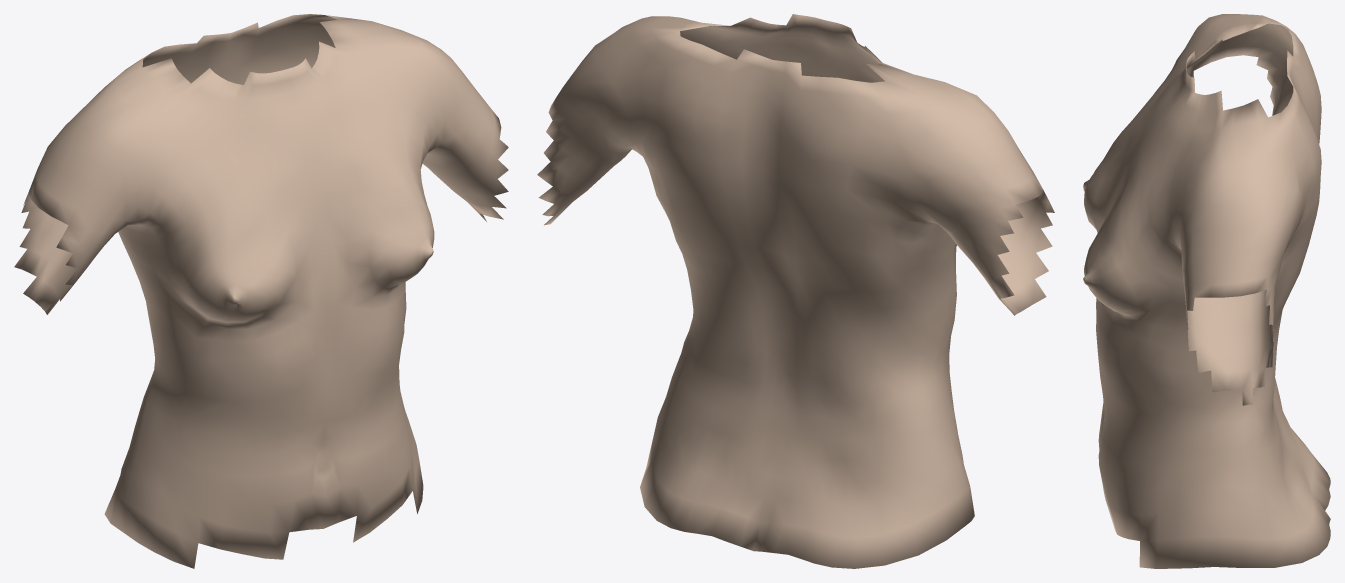
The model's file is female_tshirt_template.glb.
3 renders of one model, left to right at view 1: azimuth 30°, elevation 25°; view 2: azimuth 150°, elevation 25°; view 3: azimuth 270°, elevation 25°, orthographic. The views are drawn at different scales.
Visible parts, largest first — view 1: Tshirt_Template; view 2: Tshirt_Template; view 3: Tshirt_Template.
Part boxes in pixels (x1,y1,x2,y2): Tshirt_Template: [14, 14, 508, 568]; Tshirt_Template: [537, 14, 1054, 568]; Tshirt_Template: [1083, 14, 1330, 568].
Bounding box in the file's own units: 48.55 × 46.31 × 23.02.
